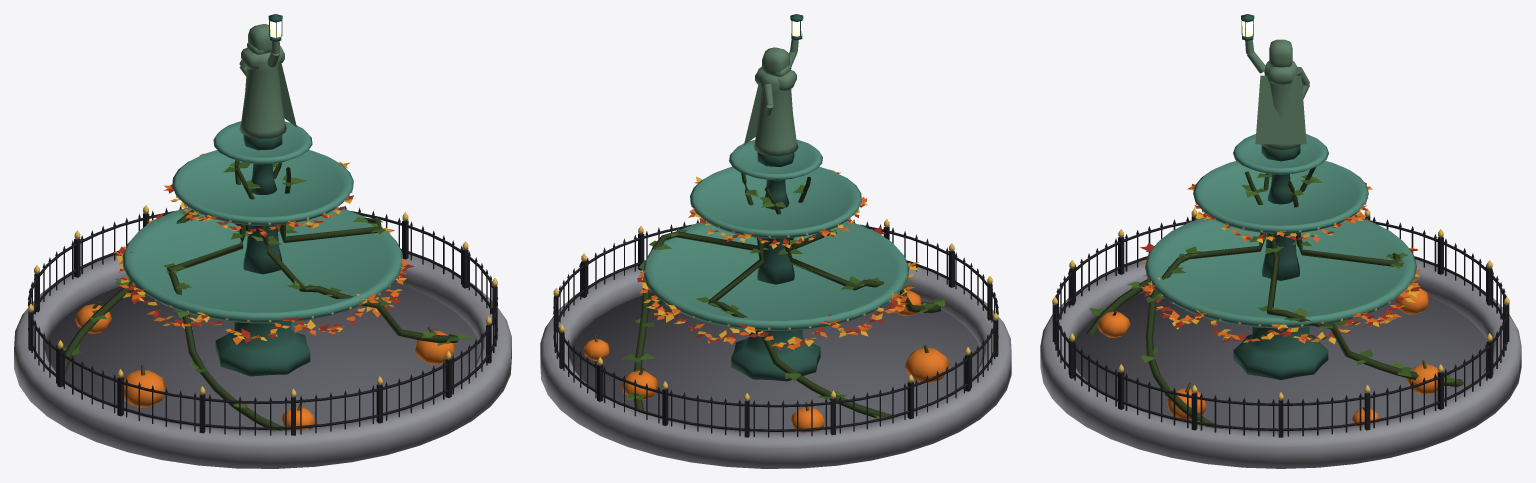
File: hg-fountain.glb
3 views of the same model, side by side, from view 1: azimuth 30°, elevation 25°; view 2: azimuth 150°, elevation 25°; view 3: azimuth 270°, elevation 25° (orthographic). The views are drawn at different scales.
Visible parts, largest first — view 1: hg-fountain; view 2: hg-fountain; view 3: hg-fountain.
Part boxes in pixels (x1,y1,x2,y2): hg-fountain: (14, 14, 511, 468); hg-fountain: (540, 14, 1011, 468); hg-fountain: (1040, 14, 1521, 468).
Bounding box in the file's own units: 7.5 × 6.02 × 7.5.
